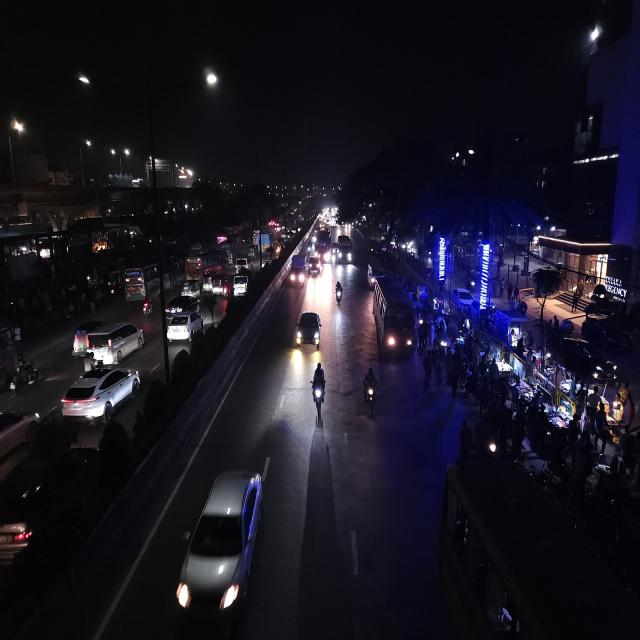bus: (436, 450, 637, 640), (370, 275, 416, 362), (185, 247, 228, 280), (122, 262, 156, 300), (335, 232, 354, 268), (315, 227, 332, 264)
car: (173, 454, 272, 639), (0, 433, 98, 572), (58, 362, 144, 426), (71, 320, 146, 364), (1, 407, 42, 468), (163, 304, 204, 345), (294, 308, 324, 351), (451, 286, 474, 313), (179, 278, 203, 297), (234, 255, 252, 272), (308, 257, 321, 279), (262, 253, 274, 269)
motorcycle: (308, 360, 330, 418), (9, 354, 40, 394), (360, 364, 380, 417), (140, 293, 155, 318), (333, 278, 345, 308), (6, 367, 18, 396)
pedestrian: (421, 348, 434, 386)
truck: (289, 253, 307, 290), (232, 272, 250, 300), (258, 229, 272, 252)
